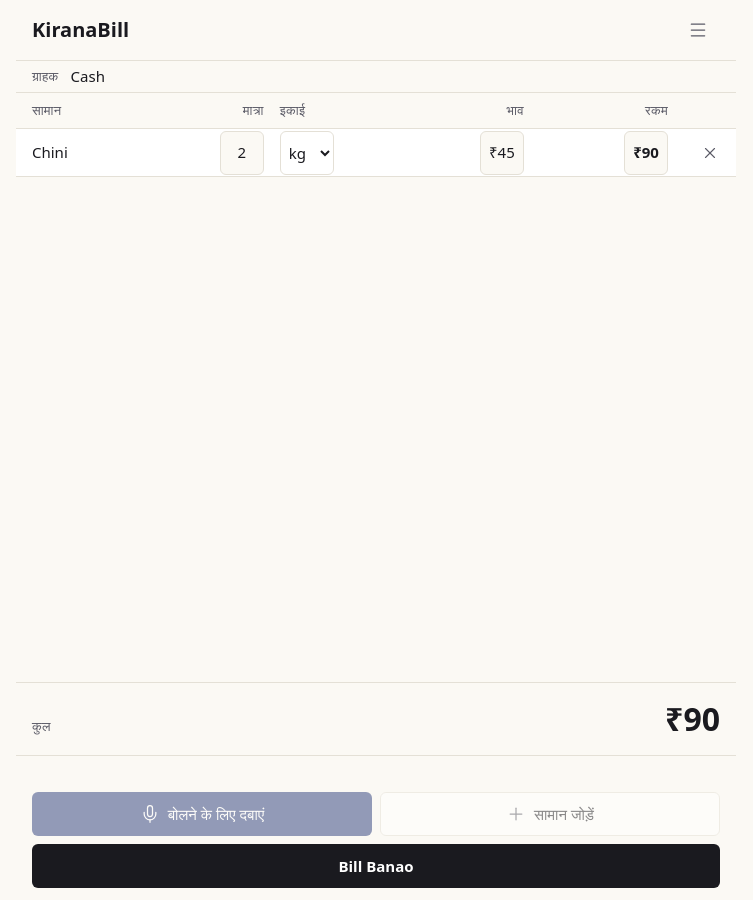
Test: the bill screen › menu, headings, total, customer - in hi; Bill Banao never changes
Click the button named "मेन्यू": (698, 30) [676,8,720,52]
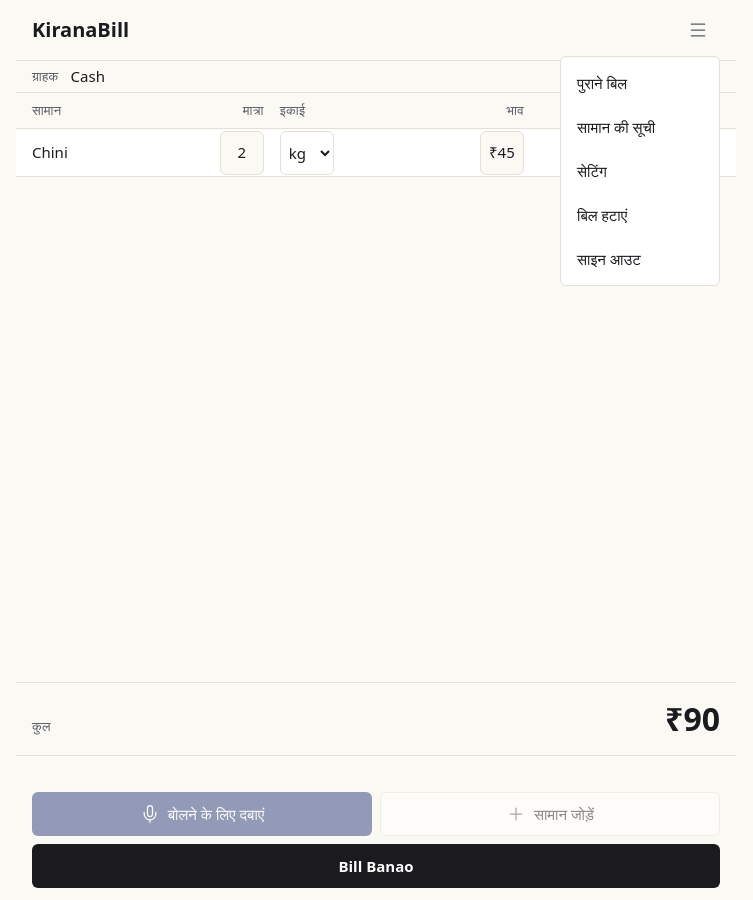
Expected: the button "पुराने बिल" is shown, [561,61,719,105]
Expected: the button "सामान की सूची" is shown, [561,105,719,149]
Expected: the button "सेटिंग" is shown, [561,149,719,193]
